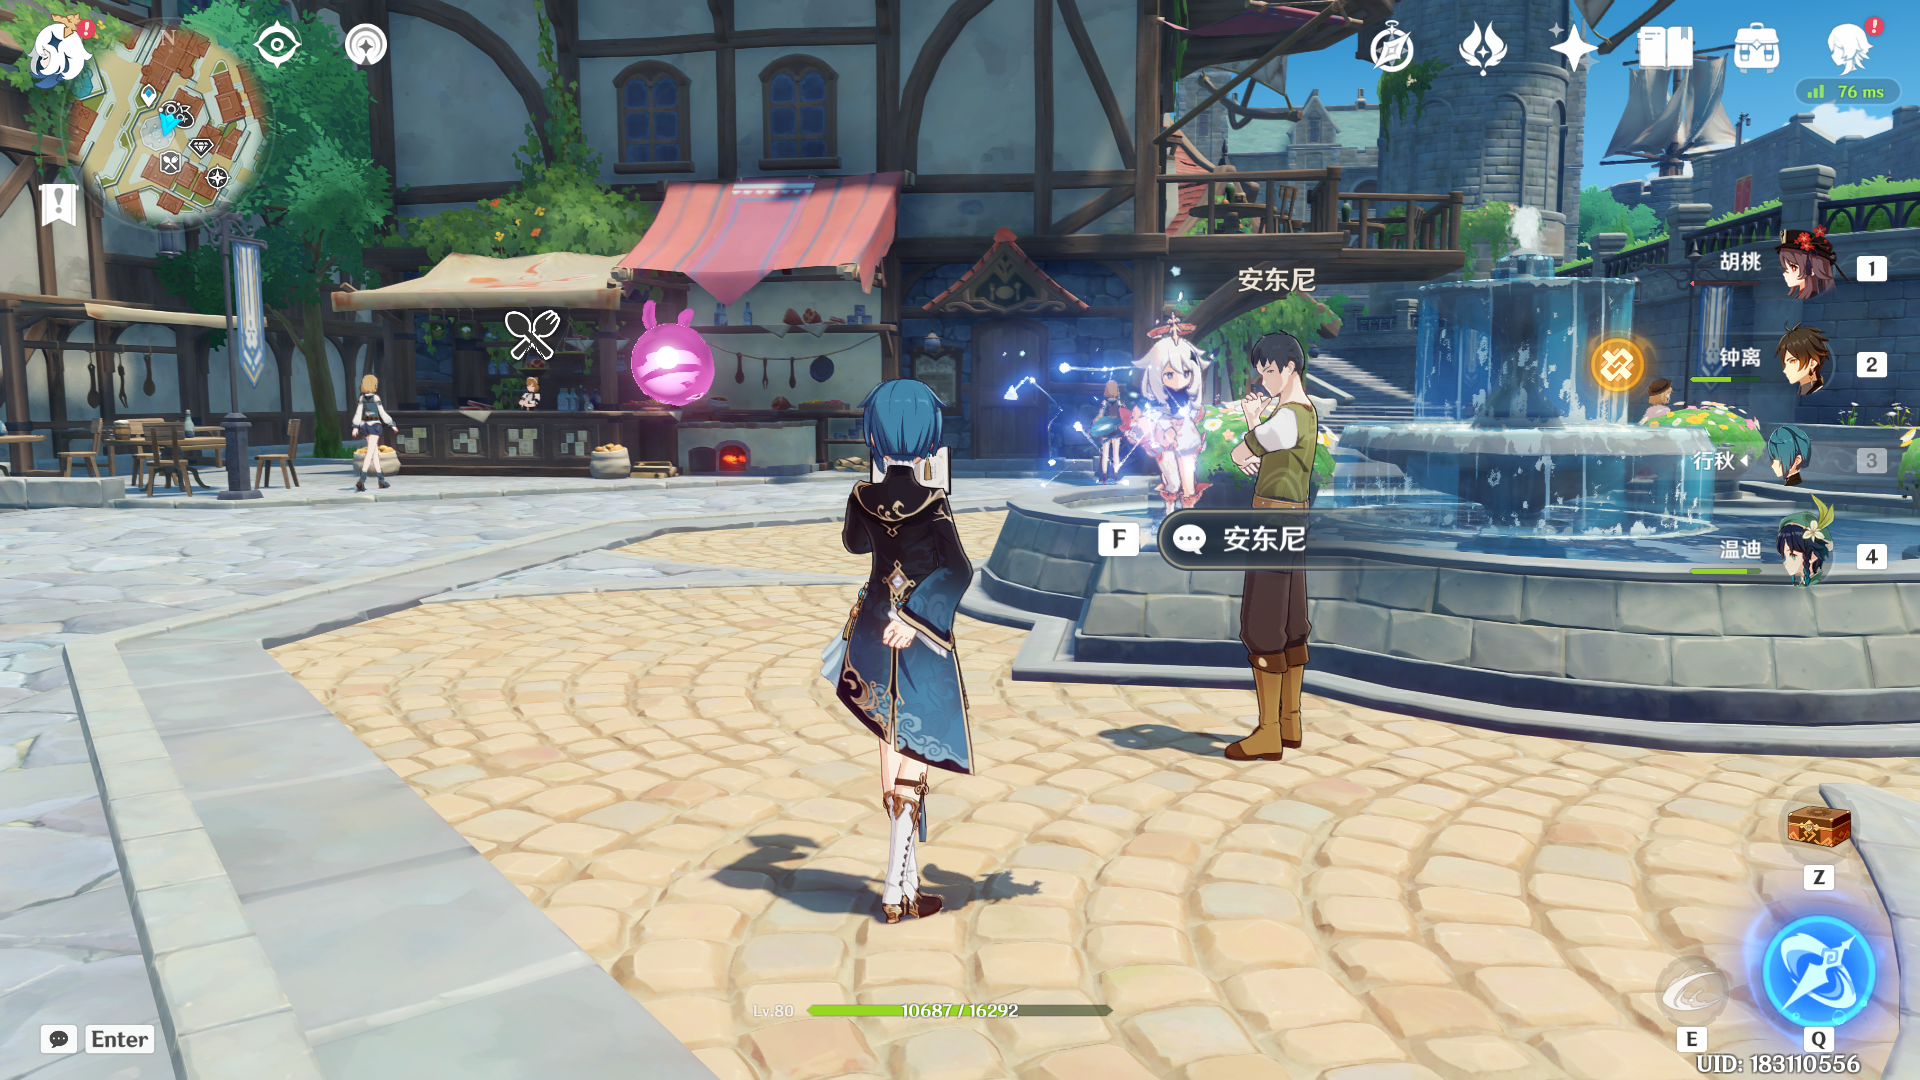character: (765, 331, 1054, 945)
